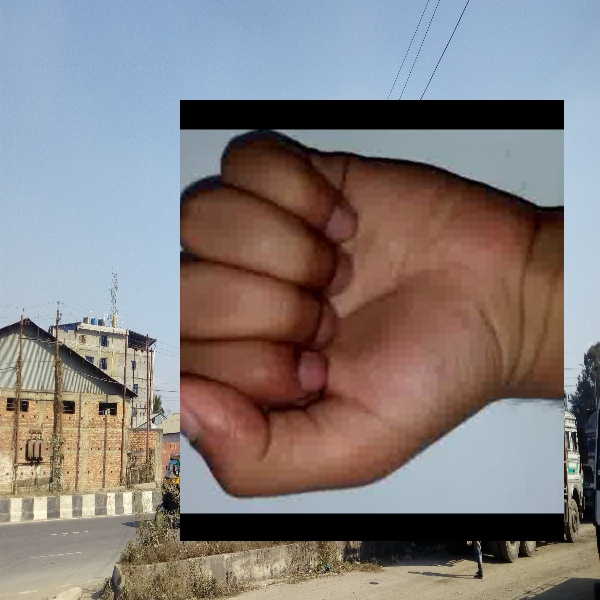A: (180, 100, 564, 541)
